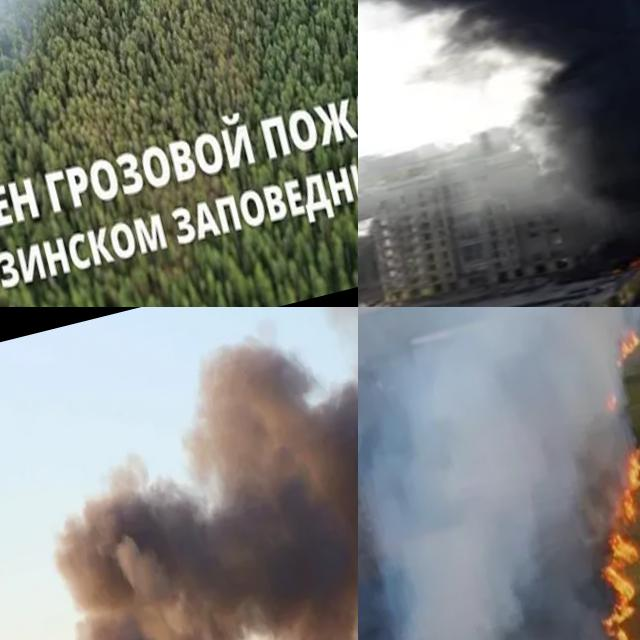smoke: (0, 307, 358, 640), (358, 307, 640, 640), (358, 0, 640, 301)
